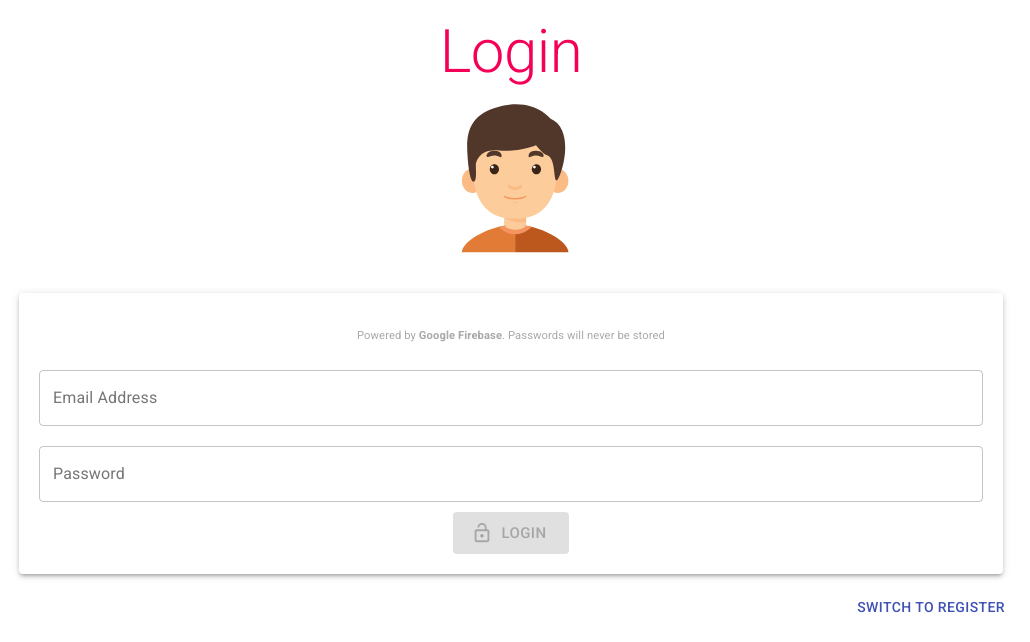
Test: <Login /> › Should switch to register screen
Click the button with id "switch-button": [931, 607] box 849,589 -> 1013,626
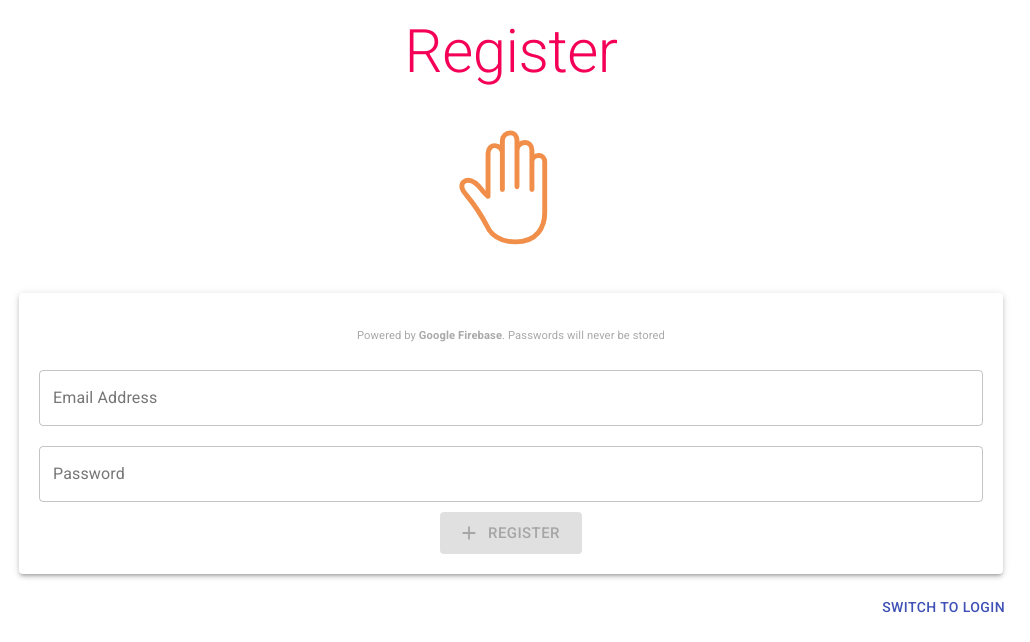
Expected: the heading with id "header" reads "Register", 404,16 -> 617,87
